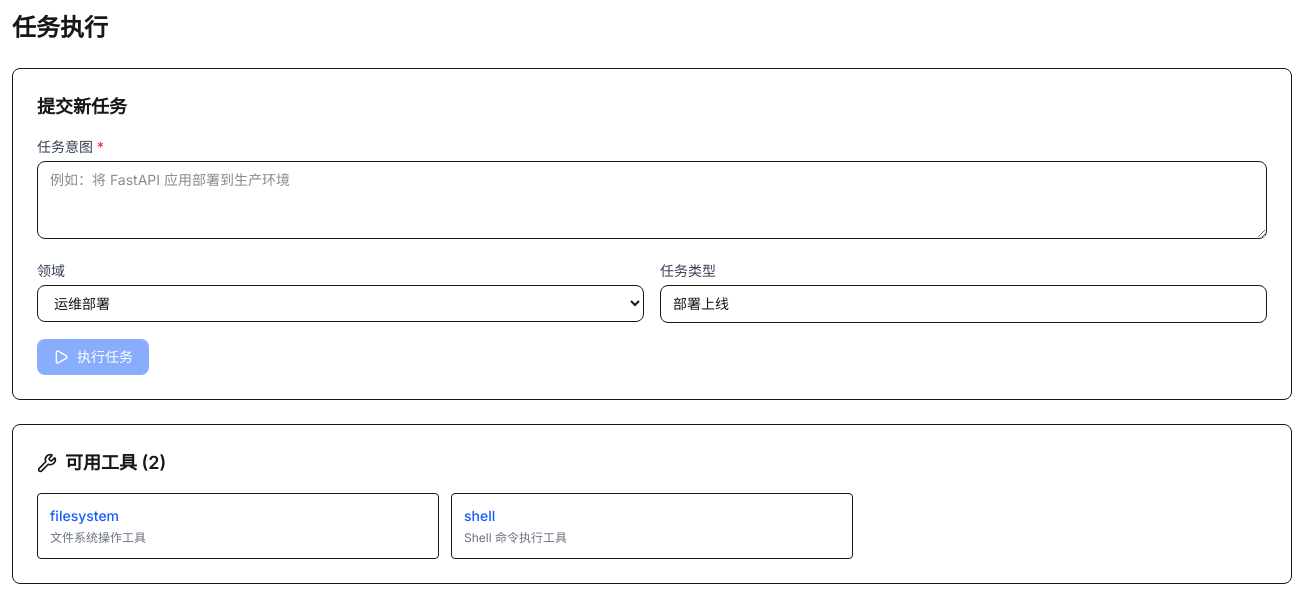
Test: Execution Page › submit button is enabled when intent is provided
Type "部署应用到生产环境" into the text box with placeholder "例如：将 FastAPI 应用部署到生产环境". click: coordinates (652, 200)
box: [37,161,1267,239]
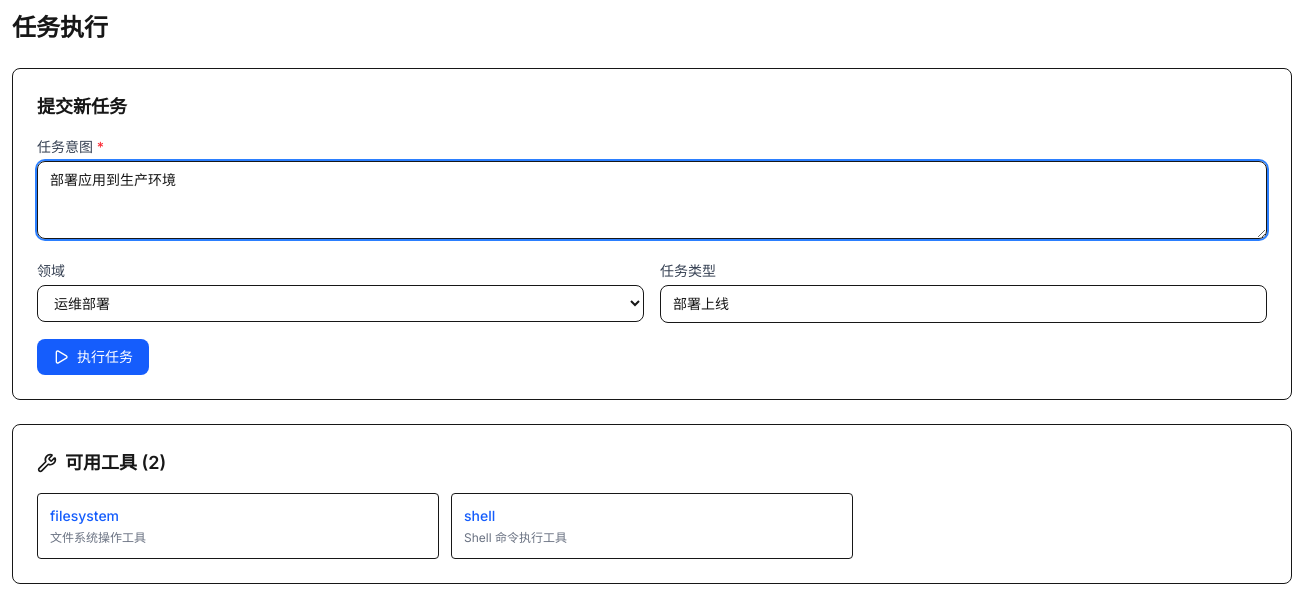
Now the button "执行任务" is enabled, box [37,339,149,375]
